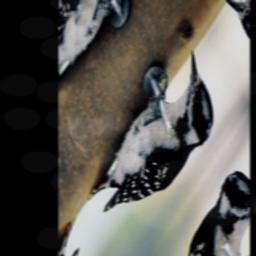Woodpecker: (81, 35, 224, 256)
